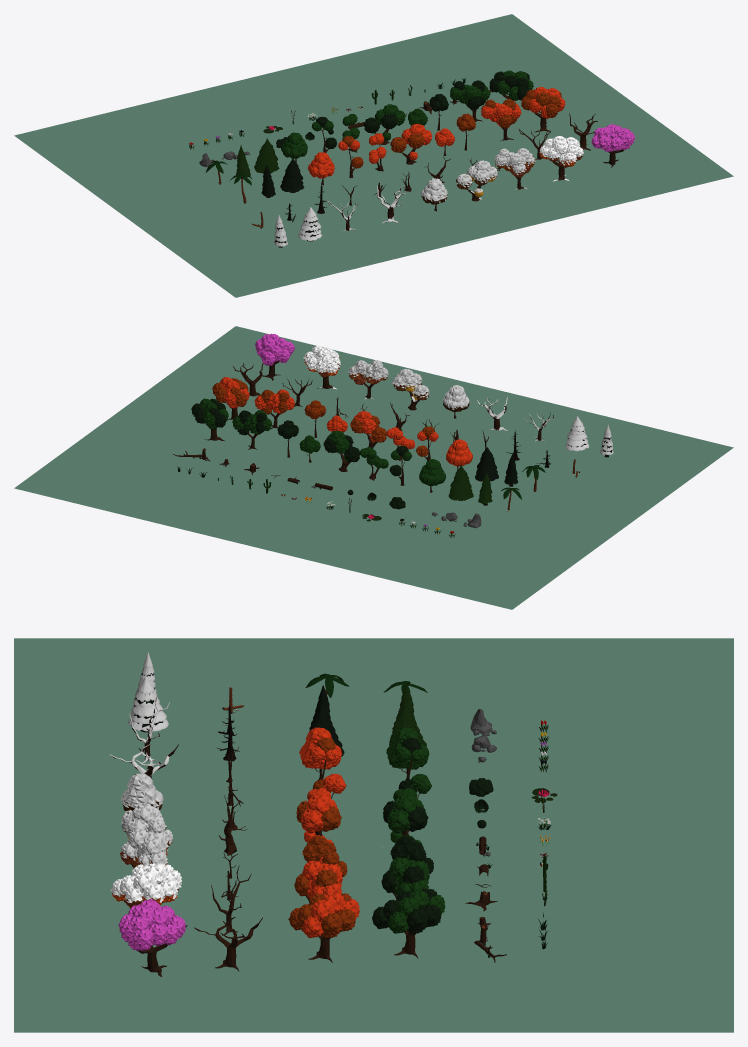
The model's file is tree.obj.
3 views of the same model, one above another, from view 1: azimuth 30°, elevation 25°; view 2: azimuth 150°, elevation 25°; view 3: azimuth 270°, elevation 25° (orthographic). The views are drawn at different scales.
Parts seen in each view (by area): view 1: grass.008, LowPoly Tree .021, LowPoly Tree .046, LowPoly Tree .033, LowPoly Tree .026, LowPoly Tree .042, LowPoly Tree .024, LowPoly Tree .038, LowPoly Tree .004, LowPoly Tree .009, LowPoly Tree .013, LowPoly Tree .005 (+5 smaller); view 2: grass.008, LowPoly Tree .033, LowPoly Tree .046, LowPoly Tree .026, LowPoly Tree .021, LowPoly Tree .042, LowPoly Tree .009, LowPoly Tree .024, LowPoly Tree .038, LowPoly Tree .013, LowPoly Tree .004, LowPoly Tree .029 (+5 smaller); view 3: grass.008, LowPoly Tree .033, LowPoly Tree .021, LowPoly Tree .026, LowPoly Tree .046, LowPoly Tree .042, LowPoly Tree .009, LowPoly Tree .024, LowPoly Tree .013, LowPoly Tree .004, LowPoly Tree .032, LowPoly Tree .039 (+6 smaller).
Part boxes in pixels (x1,y1,x2,y2): grass.008: (14,14,733,297); LowPoly Tree .021: (521,87,565,132); LowPoly Tree .046: (539,136,583,181); LowPoly Tree .033: (591,124,634,167); LowPoly Tree .026: (489,70,533,100); LowPoly Tree .042: (495,148,535,190); LowPoly Tree .024: (481,99,521,141); LowPoly Tree .038: (456,160,497,201); LowPoly Tree .004: (390,123,432,164); LowPoly Tree .009: (450,80,490,121); LowPoly Tree .013: (363,104,405,144); LowPoly Tree .005: (308,152,334,185); grass.008: (14,326,733,609); LowPoly Tree .033: (255,333,294,380); LowPoly Tree .046: (303,345,340,389); LowPoly Tree .026: (191,398,228,440); LowPoly Tree .021: (212,377,249,419); LowPoly Tree .042: (348,360,388,399); LowPoly Tree .009: (232,410,271,449); LowPoly Tree .024: (254,389,294,429); LowPoly Tree .038: (392,369,429,410); LowPoly Tree .013: (323,430,360,471); LowPoly Tree .004: (350,411,386,448); LowPoly Tree .029: (448,465,473,500); grass.008: (14,638,733,1032); LowPoly Tree .033: (118,899,187,976); LowPoly Tree .021: (288,892,359,962); LowPoly Tree .026: (372,888,445,958); LowPoly Tree .046: (110,863,181,908); LowPoly Tree .042: (120,819,172,867); LowPoly Tree .009: (381,847,433,899); LowPoly Tree .024: (294,851,347,901); LowPoly Tree .013: (383,795,428,842); LowPoly Tree .004: (296,795,341,842); LowPoly Tree .032: (128,676,168,732); LowPoly Tree .039: (120,773,163,810).
Bounding box in the file's own units: 30.98 × 2.44 × 23.89.
